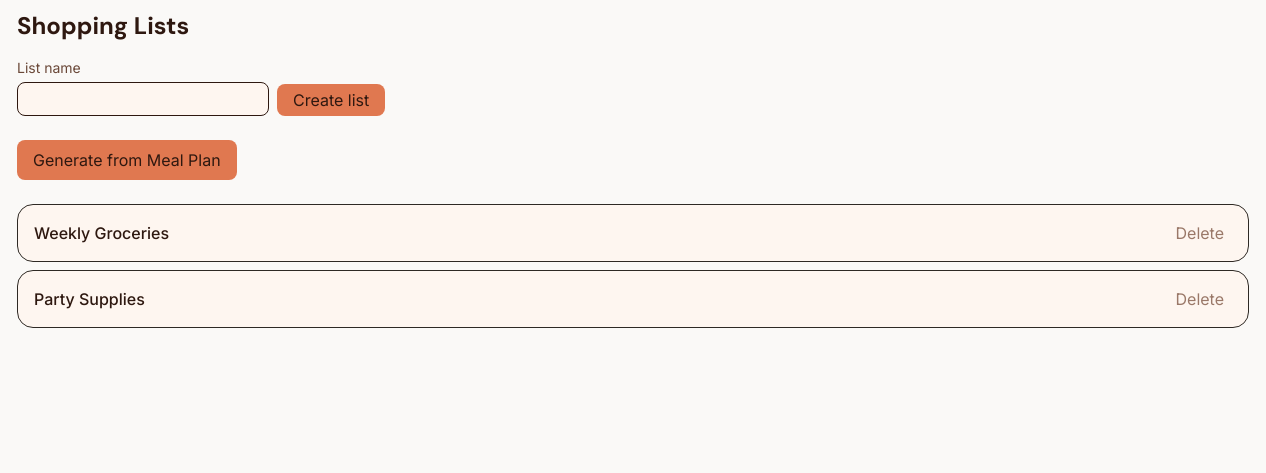
Scenario: ShoppingListPage › Generate from Meal Plan › should show loading state during generation
The image size is (1266, 473).
Check: the button "Weekly Groceries" is shown, box [34, 221, 169, 245]
Click the button "Generate from Meal Plan" at (127, 160), box [17, 140, 237, 180]
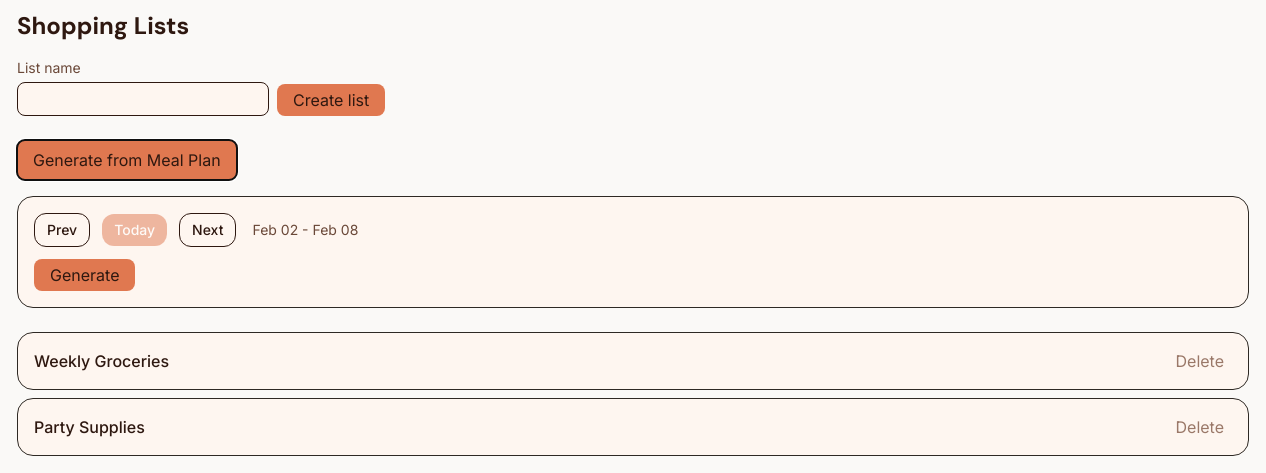
Check: the button "Generate" is shown
Click the button "Generate" at (85, 275), box [34, 259, 136, 291]
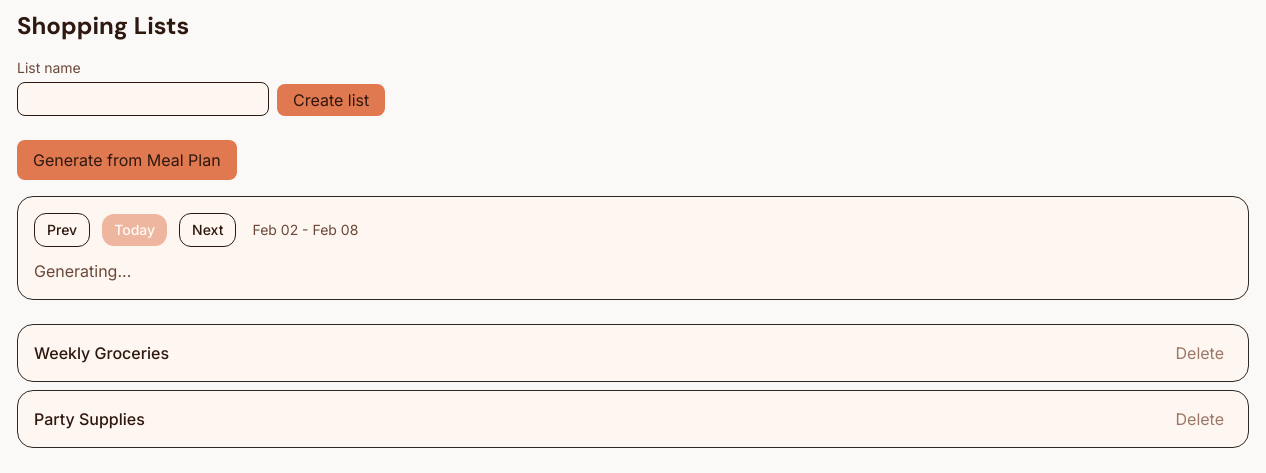
Check: the text "Generating..." is shown, box [34, 261, 131, 281]
